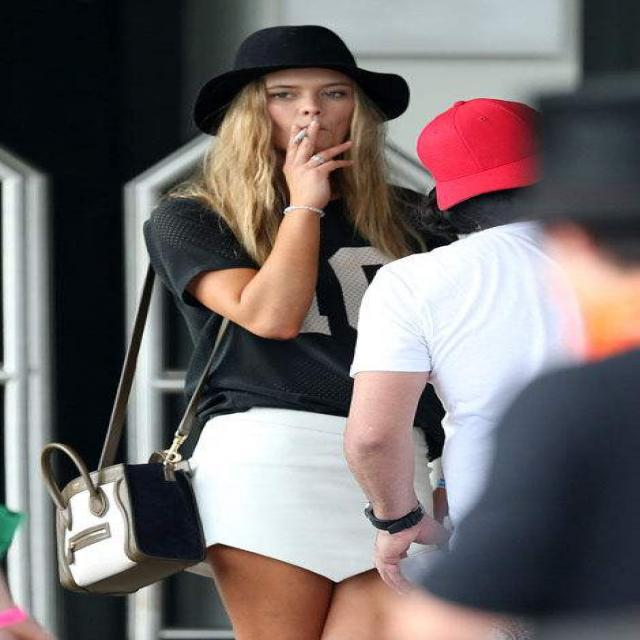smoke: (289, 126, 312, 144)
